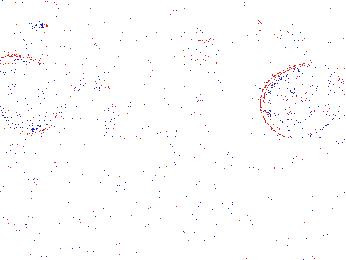moon jellyfish: (259, 61, 344, 140), (133, 44, 210, 121), (1, 54, 59, 136), (45, 82, 134, 125)
